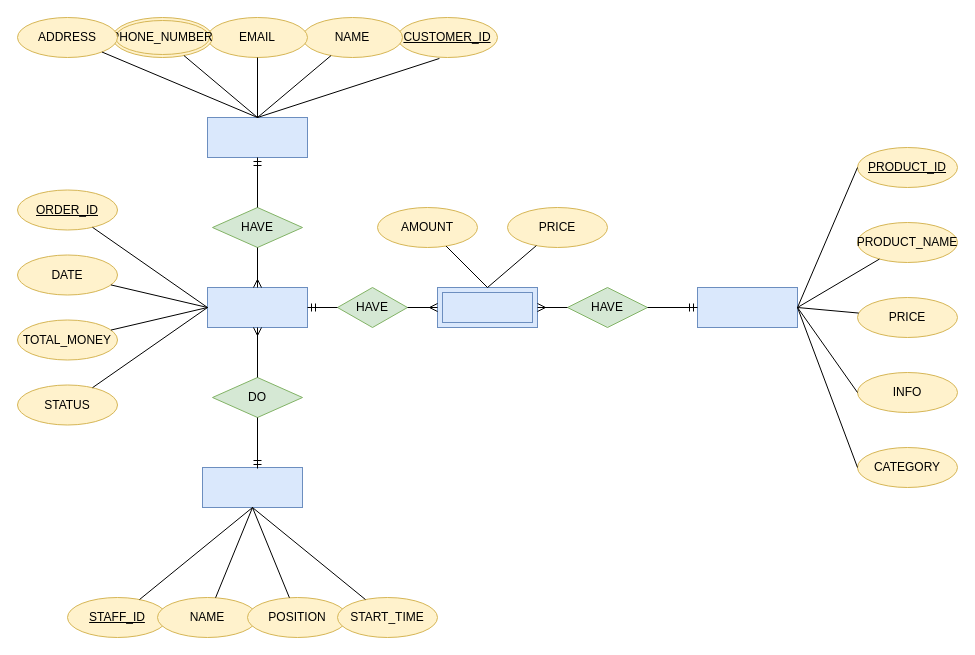
Some shapes in this 975 by 655 pixel diagram are drawn without their labels. The centre of each missing label's shape, as x and y in pixels:
CUSTOMER: (257,137)
ORDER: (257,307)
ORDER_DETAIL: (487,307)
PRODUCT: (747,307)
STAFF: (252,487)
